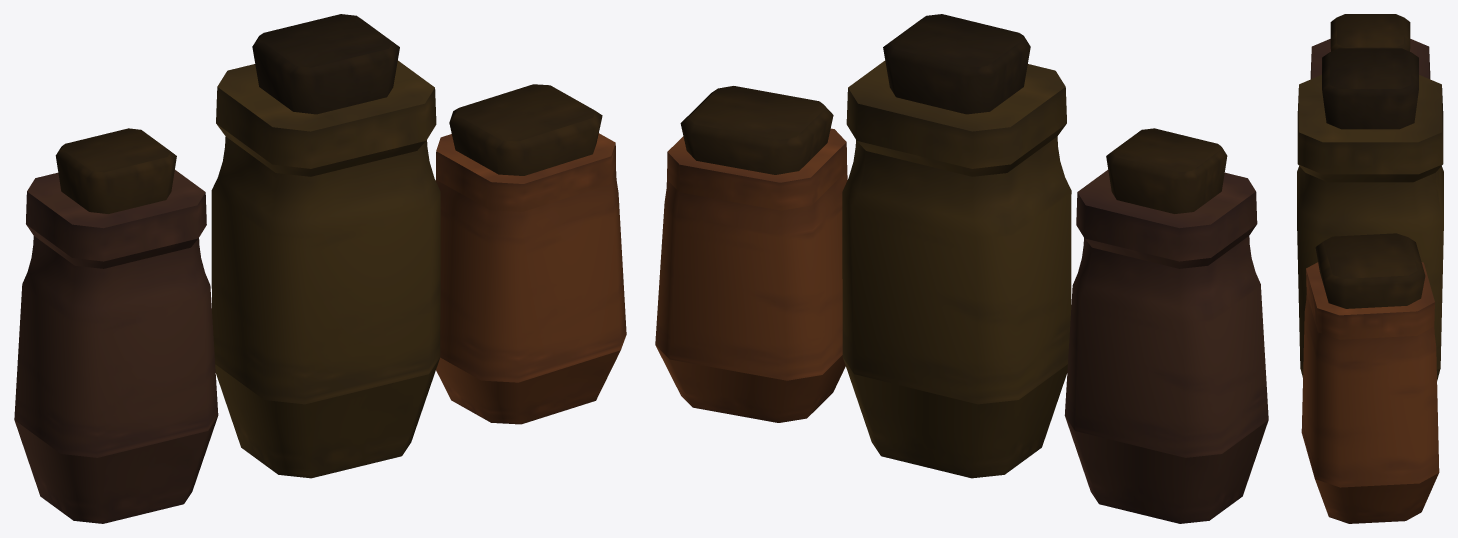
File: small_bottles_1.glb
The picture shows the model from 3 angles, left to right: view 1: azimuth 30°, elevation 25°; view 2: azimuth 150°, elevation 25°; view 3: azimuth 270°, elevation 25°; orthographic projection. The views are drawn at different scales.
Parts seen in each view (by area): view 1: SmallBottles_1; view 2: SmallBottles_1; view 3: SmallBottles_1.
Part boxes in pixels (box(x1,y1,x2,y2)): SmallBottles_1: box(14, 14, 626, 523); SmallBottles_1: box(655, 14, 1268, 523); SmallBottles_1: box(1297, 14, 1443, 523).
Size of the model in its own units: 0.2151 by 0.1454 by 0.0558.
1 material, 1 textured.
